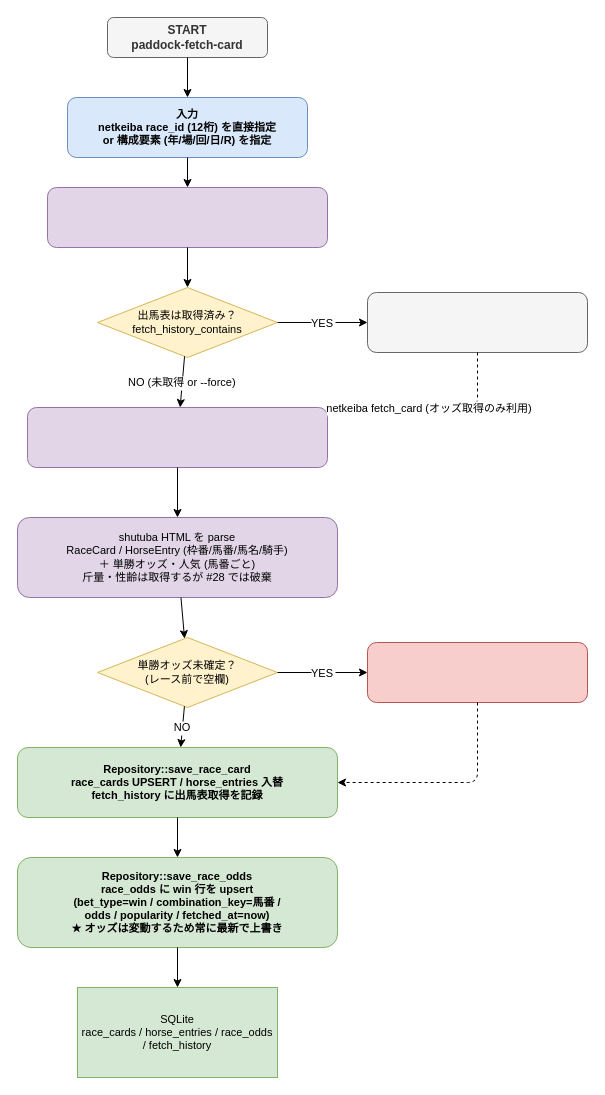
The diagram is 605 pixels wide and 1095 high, and some of its shapes have lost their labels. Here are the shapes that lost their labels. From the top down, the centre of each, then its label:
(x=187, y=217): race_id 構築ヘルパ YYYY + 場2桁 + 回2桁 + 日2桁 + R2桁 → netkeiba 12桁 / paddock RaceId を導出
(x=477, y=322): 出馬表の保存をスキップ (オッズ取得・更新は継続)
(x=177, y=437): NetkeibaScraper::fetch_card race/shutuba.html を GET (ureq) EUC-JP → UTF-8 デコード
(x=477, y=672): オッズは空のまま (win マップを populate しない) 出馬表保存は継続
